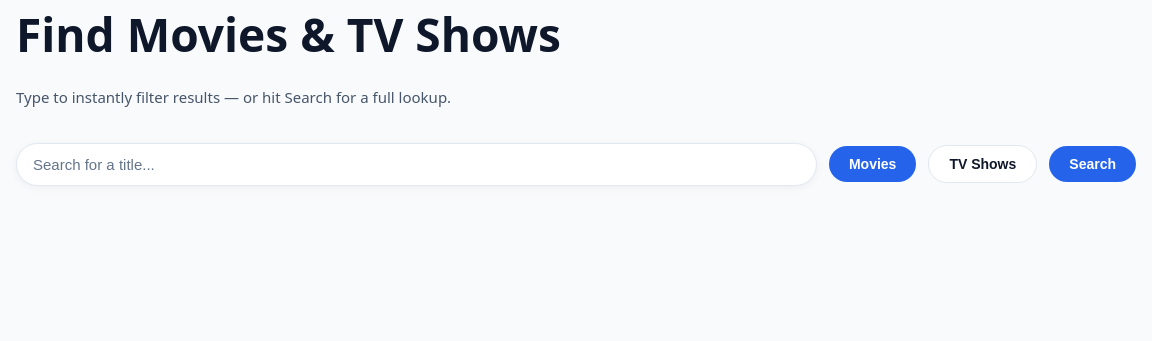
Test: SearchPage – loading state › shows a loading indicator while the request is in flight
The width and height of the screenshot is (1152, 341).
Type "tenet" into the field at x=416, y=164, box [16,142,817,186]
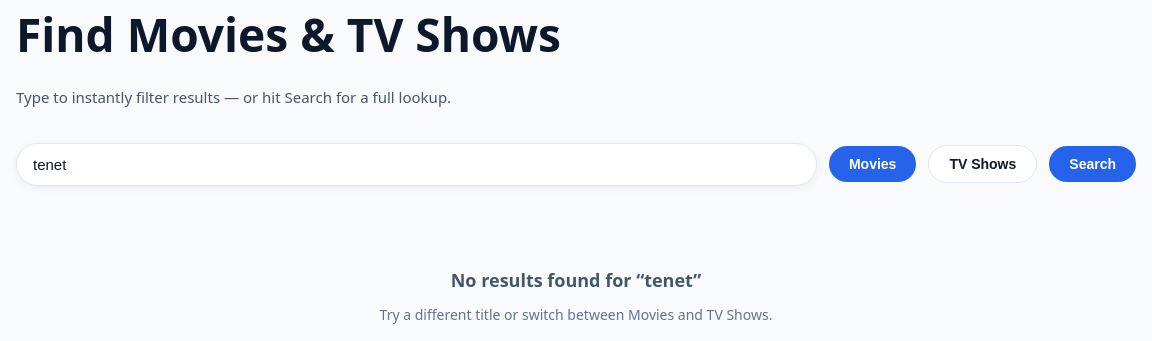
Click the button "Movies" at x=873, y=164, box [829,146,916,182]
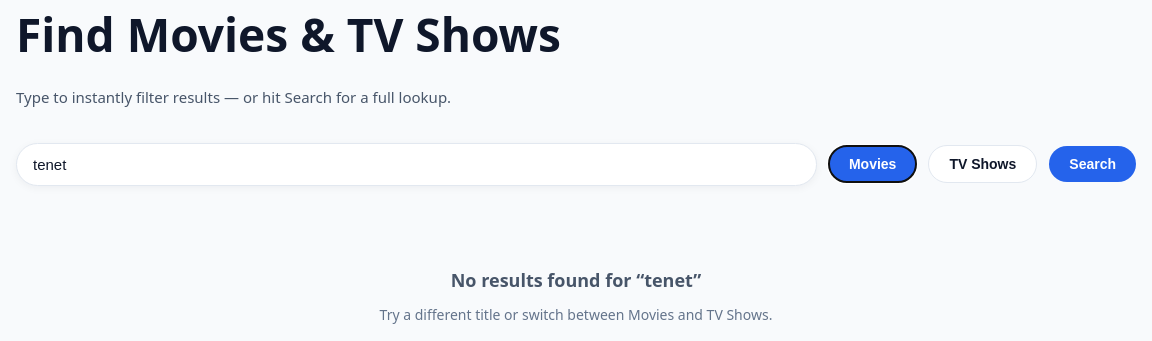
Click the button "Search" at x=1093, y=164, box [1049,146,1136,182]
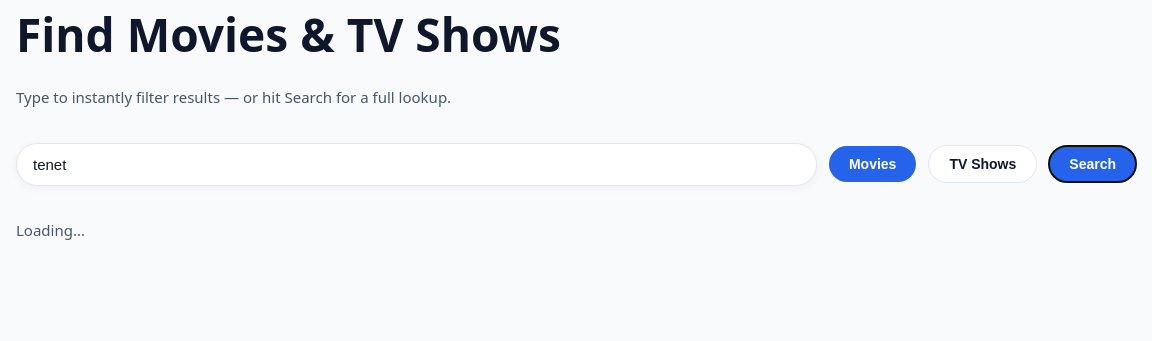
expect the message "Loading..." is shown: met, box [16,220,85,240]
